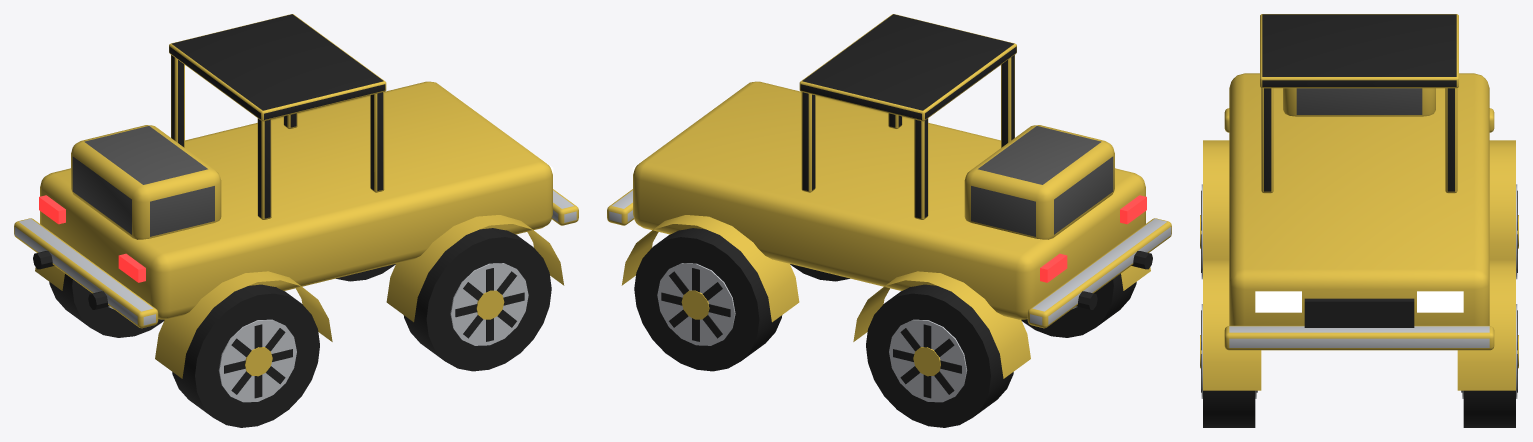
Rendered from mojave-moth.glb.
3 renders of one model, left to right at view 1: azimuth 30°, elevation 25°; view 2: azimuth 150°, elevation 25°; view 3: azimuth 270°, elevation 25°, orthographic. The views are drawn at different scales.
Parts seen in each view (by area): view 1: body, wheel_FR, wheel_RR, wheel_RL; view 2: body, wheel_FL, wheel_RL, wheel_RR; view 3: body, wheel_FL, wheel_FR.
Boxes of the visible parts, x1,y1,x2,y2 form: body: (14, 14, 578, 378); wheel_FR: (403, 228, 551, 371); wheel_RR: (172, 284, 319, 427); wheel_RL: (49, 273, 164, 337); body: (607, 14, 1171, 378); wheel_FL: (634, 228, 782, 371); wheel_RL: (866, 284, 1013, 427); wheel_RR: (1021, 273, 1136, 337); body: (1203, 14, 1515, 390); wheel_FL: (1461, 304, 1518, 427); wheel_FR: (1200, 304, 1257, 427).
Size of the model in its own units: 3.61 by 2.19 by 2.08.
